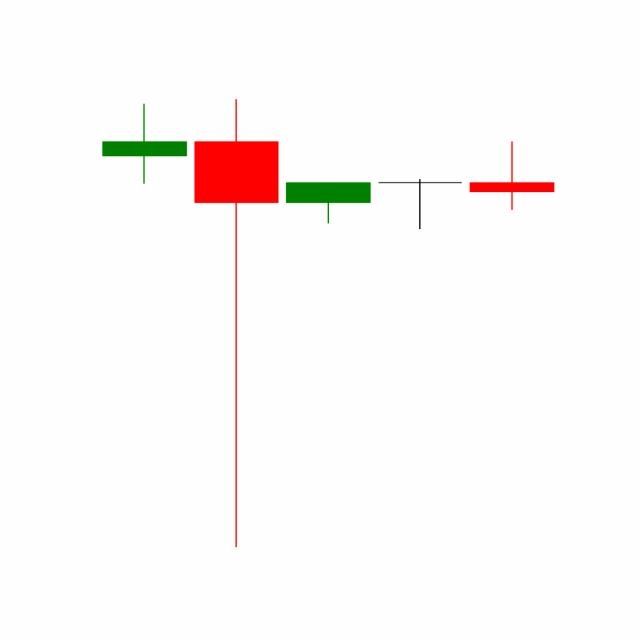Spinning Top: (373, 178, 467, 230)
